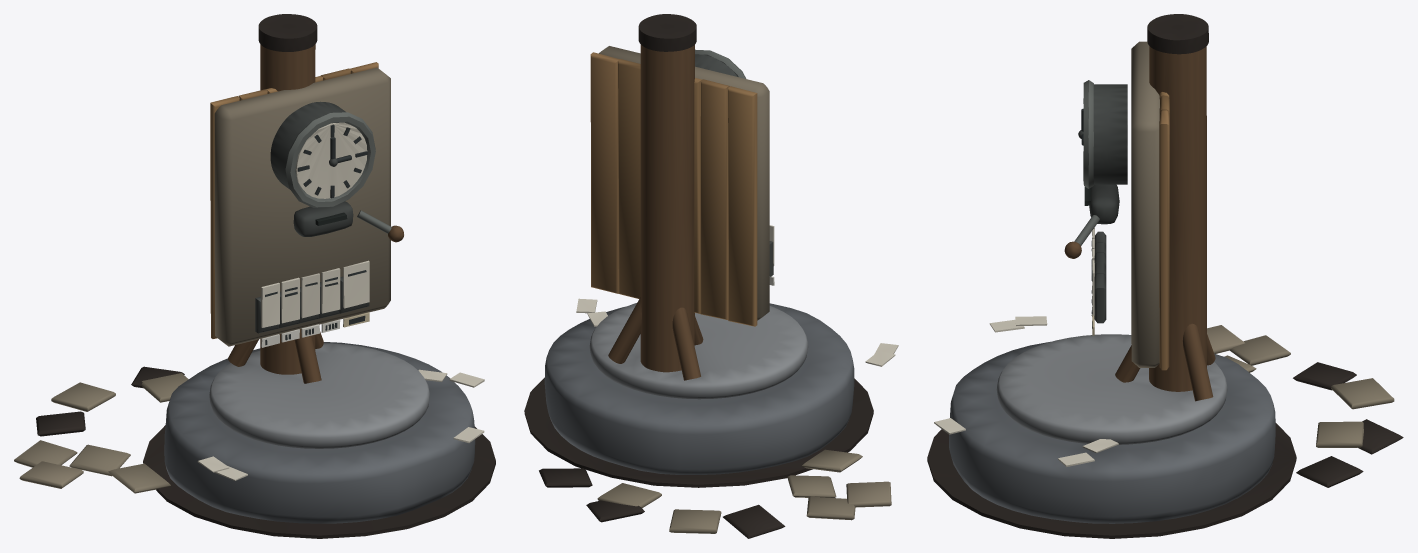
Rendered from clock_post_b.glb.
3 views of the same model, side by side, from view 1: azimuth 30°, elevation 25°; view 2: azimuth 150°, elevation 25°; view 3: azimuth 270°, elevation 25° (orthographic). The views are drawn at different scales.
Visible parts, largest first — view 1: Surface; view 2: Surface; view 3: Surface.
Boxes of the visible parts, x1=… form: Surface: x1=14, y1=14, x2=495, y2=538; Surface: x1=524, y1=14, x2=898, y2=538; Surface: x1=927, y1=14, x2=1403, y2=538.
Bounding box in the file's own units: 2.49 × 2.48 × 2.45.
